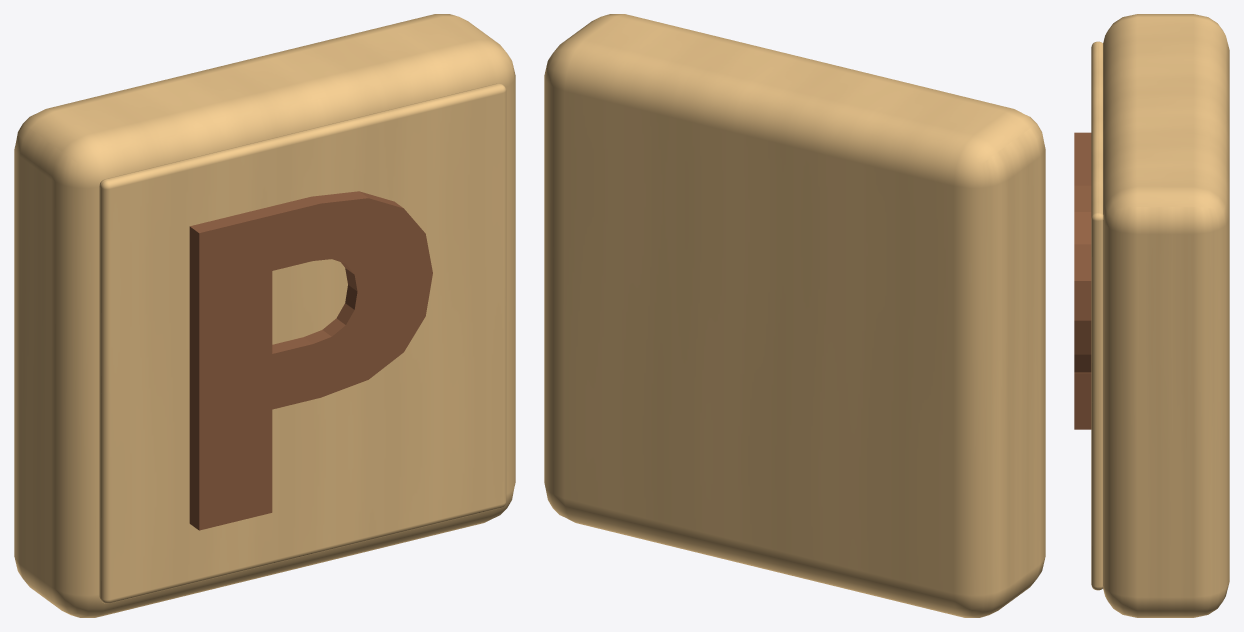
3 views of the same model, side by side, from view 1: azimuth 30°, elevation 25°; view 2: azimuth 150°, elevation 25°; view 3: azimuth 270°, elevation 25° (orthographic). The views are drawn at different scales.
Parts seen in each view (by area): view 1: Tile_P; view 2: Tile_P; view 3: Tile_P.
Boxes of the visible parts, x1,y1,x2,y2 form: Tile_P: [14, 14, 515, 617]; Tile_P: [544, 14, 1045, 617]; Tile_P: [1074, 14, 1229, 617].
Size of the model in its own units: 0.21 by 0.21 by 0.069.
Materials: 2 (1 with a texture image).
